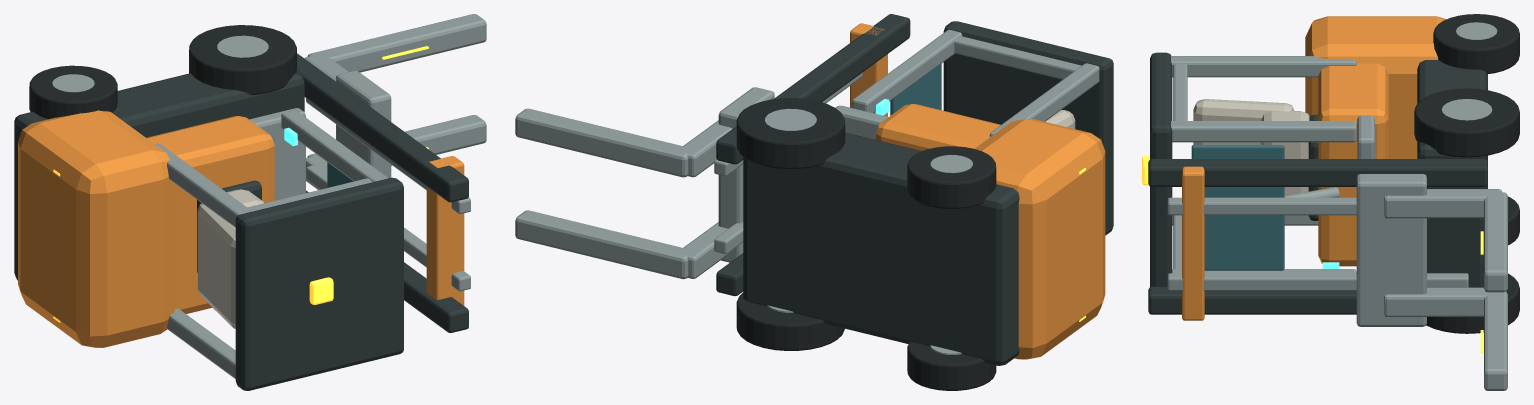
The model's file is forklift.glb.
3 views of the same model, side by side, from view 1: azimuth 30°, elevation 25°; view 2: azimuth 150°, elevation 25°; view 3: azimuth 270°, elevation 25° (orthographic). The views are drawn at different scales.
Parts seen in each view (by area): view 1: forklift_counterweight, forklift_guard_roof, forklift_hood, forklift_chassis, forklift_mast_rail_left, forklift_front_drive_wheel_left, forklift_fork_left, forklift_mast_crossbar, forklift_seat_back, forklift_rear_steer_wheel_left, forklift_guard_front_left, forklift_floor (+13 smaller); view 2: forklift_chassis, forklift_counterweight, forklift_guard_roof, forklift_front_drive_wheel_left, forklift_fork_right, forklift_fork_left, forklift_mast_rail_left, forklift_rear_steer_wheel_left, forklift_hood, forklift_front_drive_wheel_right, forklift_rear_steer_wheel_right, forklift_guard_front_left (+13 smaller); view 3: forklift_counterweight, forklift_carriage, forklift_mast_rail_left, forklift_hood, forklift_windshield, forklift_chassis, forklift_front_drive_wheel_left, forklift_mast_rail_right, forklift_guard_roof, forklift_guard_front_left, forklift_rear_steer_wheel_left, forklift_inner_mast_right (+20 smaller).
Part boxes in pixels (x1,y1,x2,y2): forklift_counterweight: (18, 110, 174, 347); forklift_guard_roof: (235, 177, 403, 390); forklift_hood: (146, 116, 274, 313); forklift_chassis: (14, 72, 304, 280); forklift_mast_rail_left: (296, 53, 468, 202); forklift_front_drive_wheel_left: (189, 25, 296, 94); forklift_fork_left: (307, 14, 486, 72); forklift_mast_crossbar: (426, 156, 464, 305); forklift_seat_back: (197, 203, 235, 328); forklift_rear_steer_wheel_left: (29, 65, 117, 119); forklift_guard_front_left: (281, 110, 388, 181); forklift_floor: (249, 108, 305, 200); forklift_chassis: (743, 132, 1019, 365); forklift_counterweight: (974, 119, 1105, 359); forklift_guard_roof: (943, 21, 1113, 235); forklift_front_drive_wheel_left: (736, 98, 845, 168); forklift_fork_right: (515, 210, 691, 279); forklift_fork_left: (515, 108, 688, 177); forklift_mast_rail_left: (716, 14, 910, 164); forklift_rear_steer_wheel_left: (907, 146, 996, 208); forklift_hood: (876, 104, 1000, 150); forklift_front_drive_wheel_right: (736, 292, 844, 350); forklift_rear_steer_wheel_right: (907, 341, 996, 390); forklift_guard_front_left: (852, 29, 962, 113); forklift_counterweight: (1305, 16, 1446, 158); forklift_carriage: (1356, 174, 1426, 326); forklift_mast_rail_left: (1148, 159, 1487, 186); forklift_hood: (1318, 63, 1388, 266); forklift_windshield: (1191, 145, 1284, 270); forklift_chassis: (1417, 60, 1487, 286); forklift_front_drive_wheel_left: (1414, 88, 1519, 157); forklift_mast_rail_right: (1148, 286, 1483, 314); forklift_guard_roof: (1150, 52, 1172, 286); forklift_guard_front_left: (1171, 121, 1356, 142); forklift_rear_steer_wheel_left: (1433, 14, 1519, 74); forklift_inner_mast_right: (1167, 273, 1468, 290).
Bounding box in the file's own units: 1.73 × 0.7 × 1.18.
